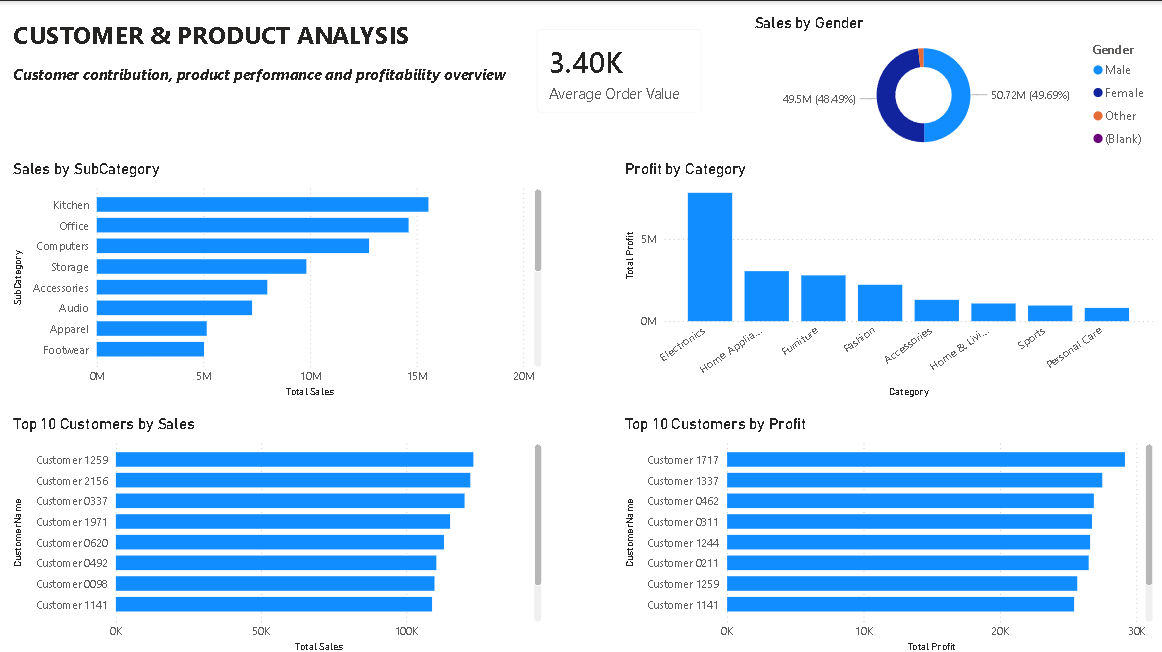

Layout of this report page (visuals, bound fields, positions):
{"tool":"powerbi","page":{"name":"Product & Customer Analysis","canvas":[1280,720],"ordinal":1},"visuals":[{"type":"clusteredBarChart","title":"Sales by SubCategory","fields":{"Category":["DimProduct.SubCategory"],"Y":["DimCustomer.Total Sales"]},"box":[9.6,174.3,590.1,266.2],"z":0},{"type":"clusteredColumnChart","title":"Profit by Category","fields":{"Category":["DimProduct.Category"],"Y":["DimCustomer.Total Profit"]},"box":[680.6,174.3,590.1,266.2],"z":1000},{"type":"clusteredBarChart","title":"Top 10 Customers by Sales","fields":{"Category":["DimCustomer.CustomerName"],"Y":["DimCustomer.Total Sales"]},"box":[9.6,454.2,590.1,266.2],"z":2000},{"type":"clusteredBarChart","title":"Top 10 Customers by Profit","fields":{"Category":["DimCustomer.CustomerName"],"Y":["DimCustomer.Total Profit"]},"box":[680.6,454.2,590.1,266.2],"z":3000},{"type":"cardVisual","fields":{"Data":["DimCustomer.Average Order Value"]},"box":[572.2,13.7,215.4,126.2],"z":4000},{"type":"textbox","box":[9.6,13.7,463.8,49.4],"z":5000},{"type":"donutChart","title":"Sales by Gender","fields":{"Category":["DimCustomer.Gender"],"Y":["DimCustomer.Total Sales"]},"box":[823.3,13.7,447.3,160.5],"z":6000},{"type":"textbox","box":[9.6,63.1,562.6,48],"z":7000}]}

Visuals, with their boxes in screenshot pixels (x1, y1, x2, y2), scaled from the page's 1280x720 canvas onto the 1162x652 screenshot:
"Sales by SubCategory" clusteredBarChart: 9, 158, 544, 399
"Profit by Category" clusteredColumnChart: 618, 158, 1154, 399
"Top 10 Customers by Sales" clusteredBarChart: 9, 411, 544, 651
"Top 10 Customers by Profit" clusteredBarChart: 618, 411, 1154, 651
cardVisual - DimCustomer.Average Order Value: 519, 12, 715, 127
textbox: 9, 12, 430, 57
"Sales by Gender" donutChart: 747, 12, 1153, 158
textbox: 9, 57, 519, 101
